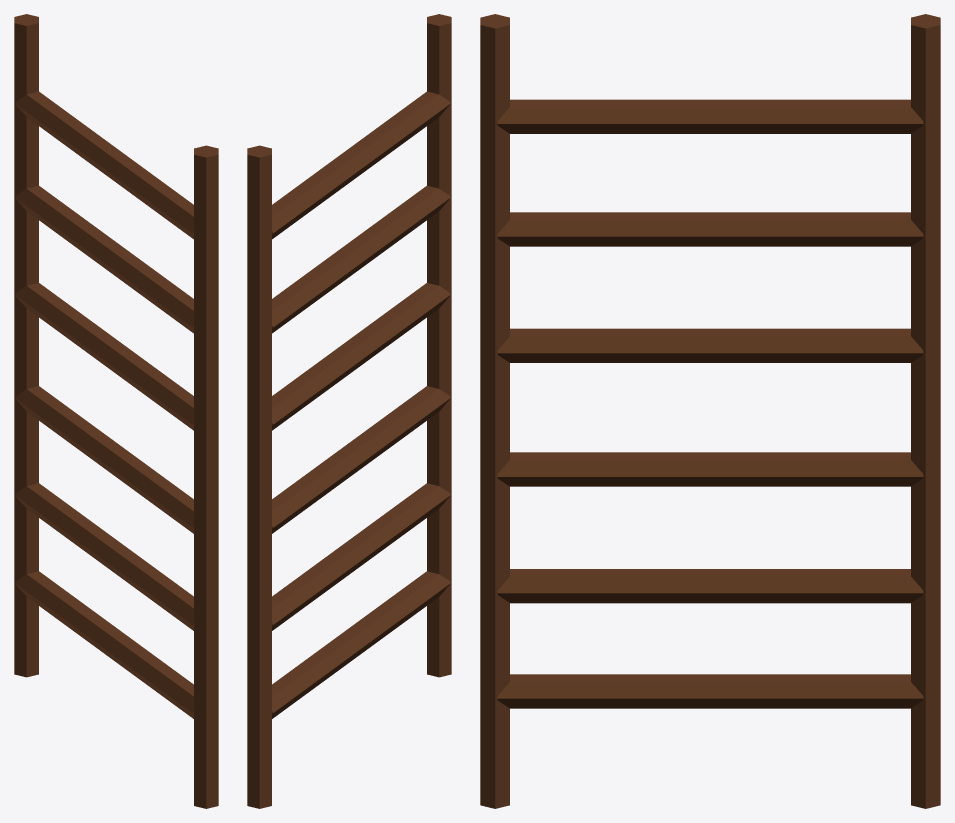
File: ladder_350.fbx
3 views of the same model, side by side, from view 1: azimuth 30°, elevation 25°; view 2: azimuth 150°, elevation 25°; view 3: azimuth 270°, elevation 25° (orthographic). The views are drawn at different scales.
Parts seen in each view (by area): view 1: ladder_350; view 2: ladder_350; view 3: ladder_350.
Boxes of the visible parts, <box> form: ladder_350: <box>14,14,218,808</box>; ladder_350: <box>247,14,451,808</box>; ladder_350: <box>480,14,940,808</box>.
Size of the model in its own units: 4 by 100 by 53.46.
